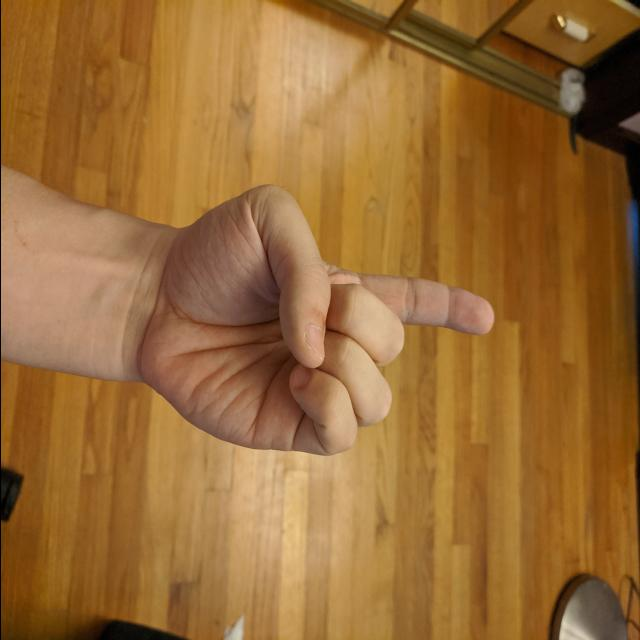D: (128, 178, 498, 462)
